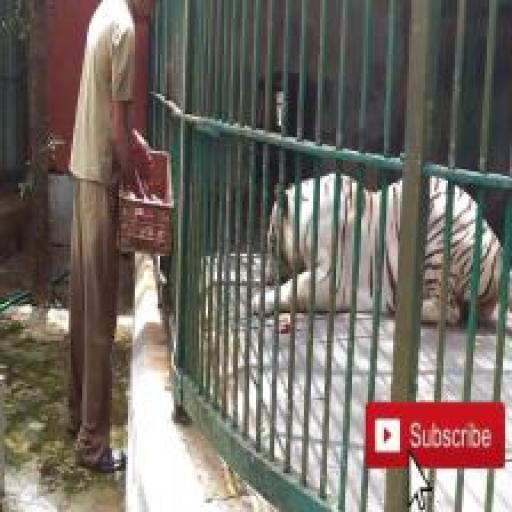Tiger: (251, 169, 512, 324)
